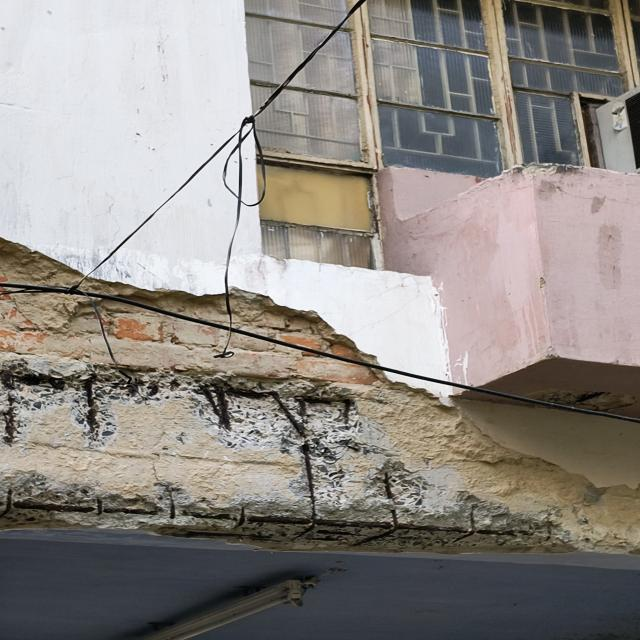Paint Peeling: (533, 273, 550, 297)
Spalling: (0, 240, 640, 552), (521, 388, 638, 414)
